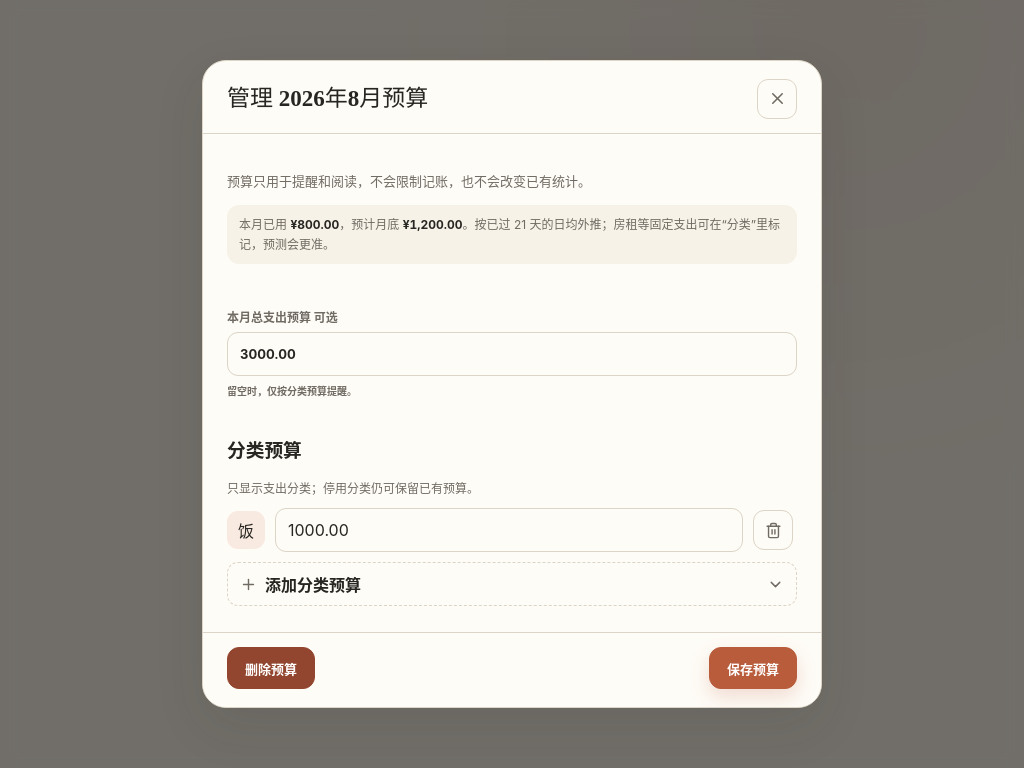
Test: SMB 2.1.2 响应式弹层基线 › 预算分类选择使用主题内面板并支持键盘关闭与选择
Click the button "添加分类预算" at (313, 585), box [227,562,797,606]
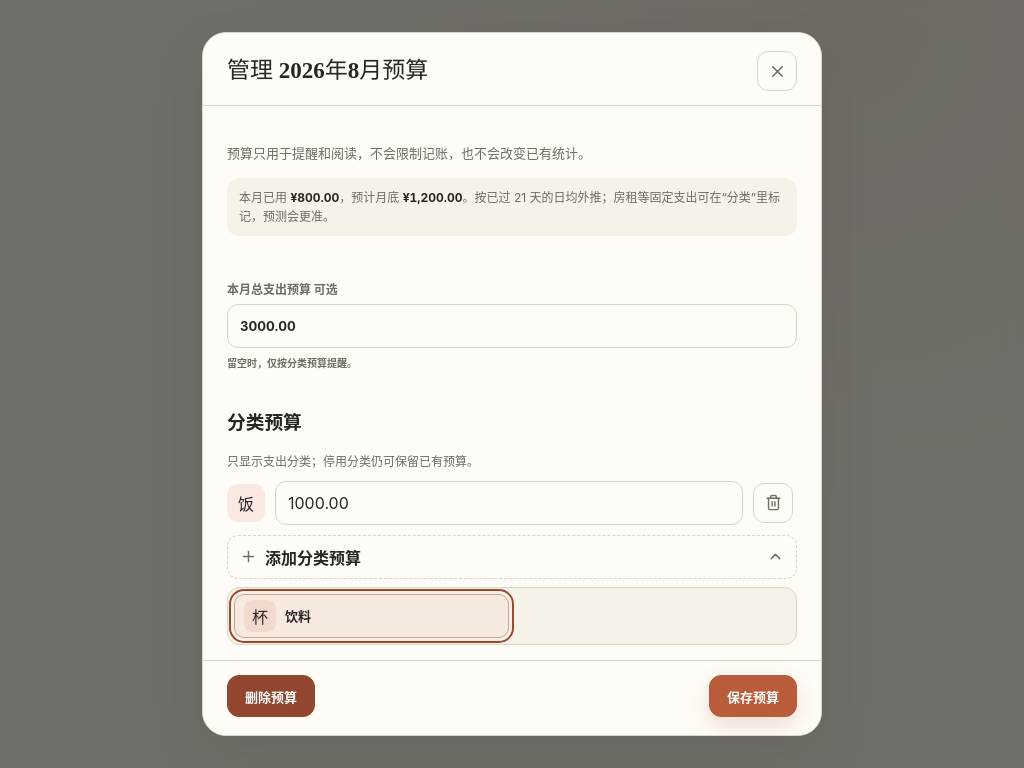
Press Escape in the option "杯 饮料", box [234,594,509,638]
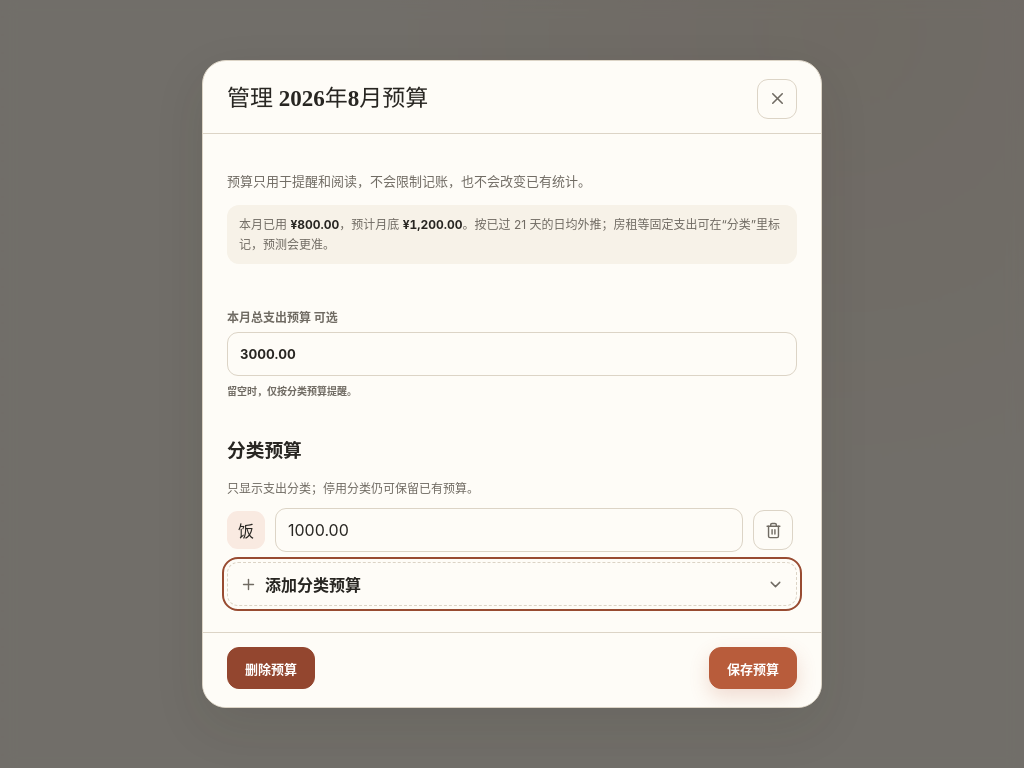
Expected: the list "可添加的支出分类" is gone
Click the button "添加分类预算" at (313, 585), box [227,562,797,606]
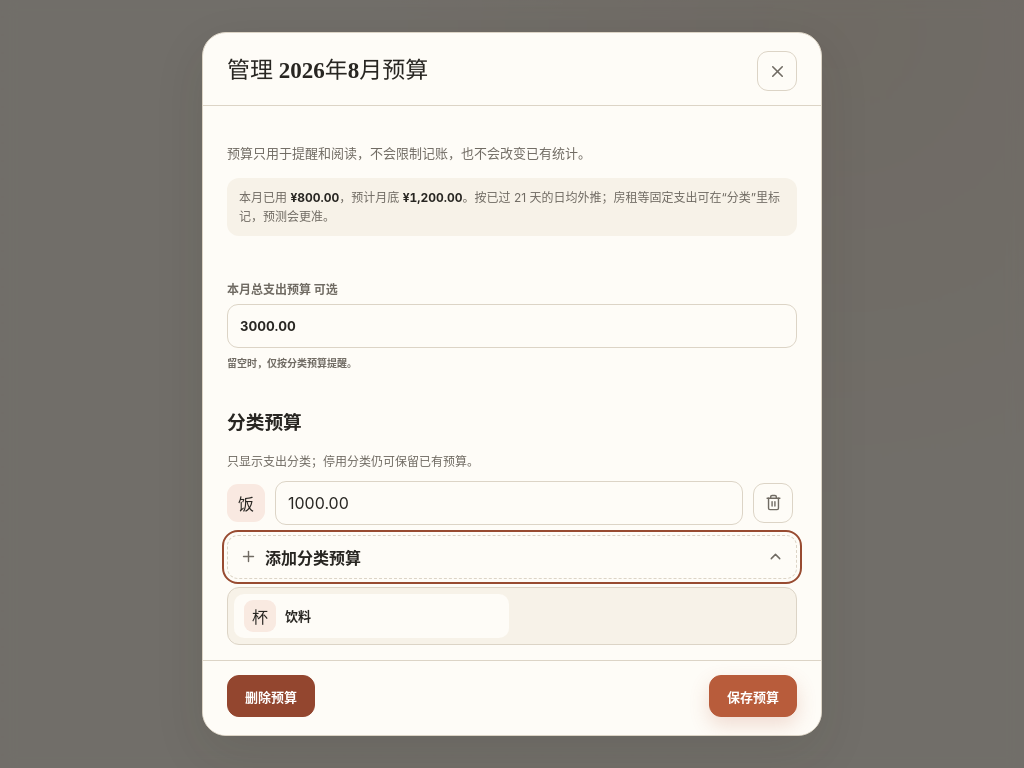
Click the option "杯 饮料" at (260, 616), box [234,594,509,638]
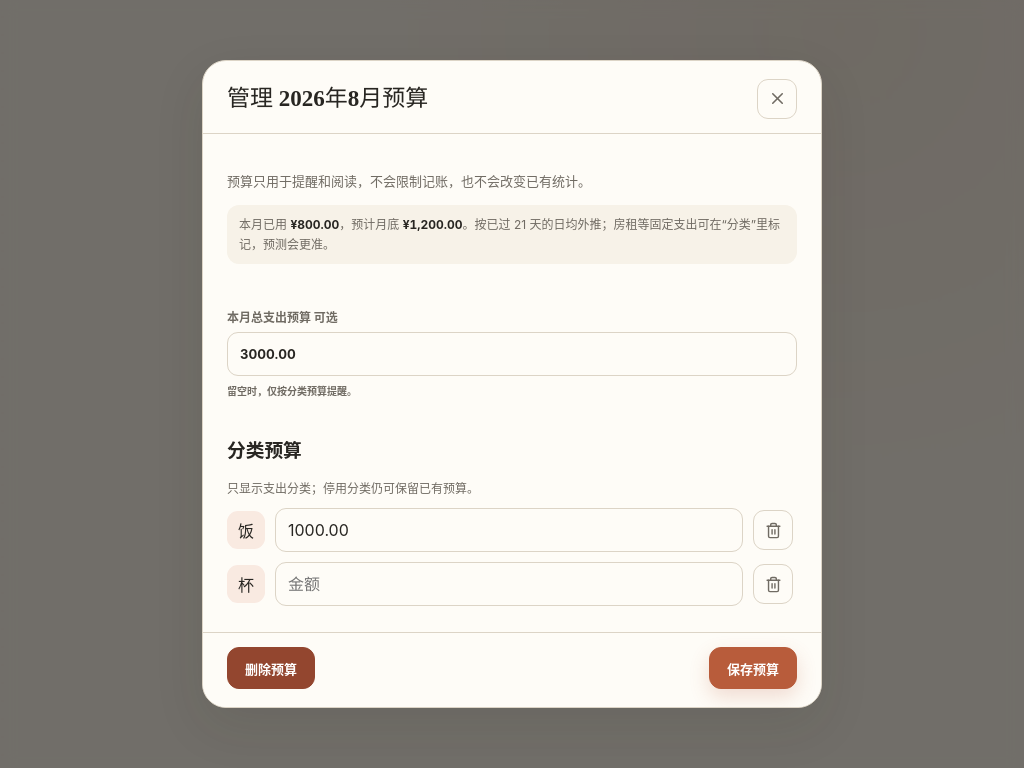
Expected: the field named "饮料预算" is shown, [275,562,743,606]
